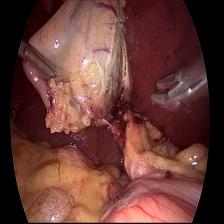Clipper: (149, 62, 208, 107)
Grasper: (22, 35, 58, 88)
